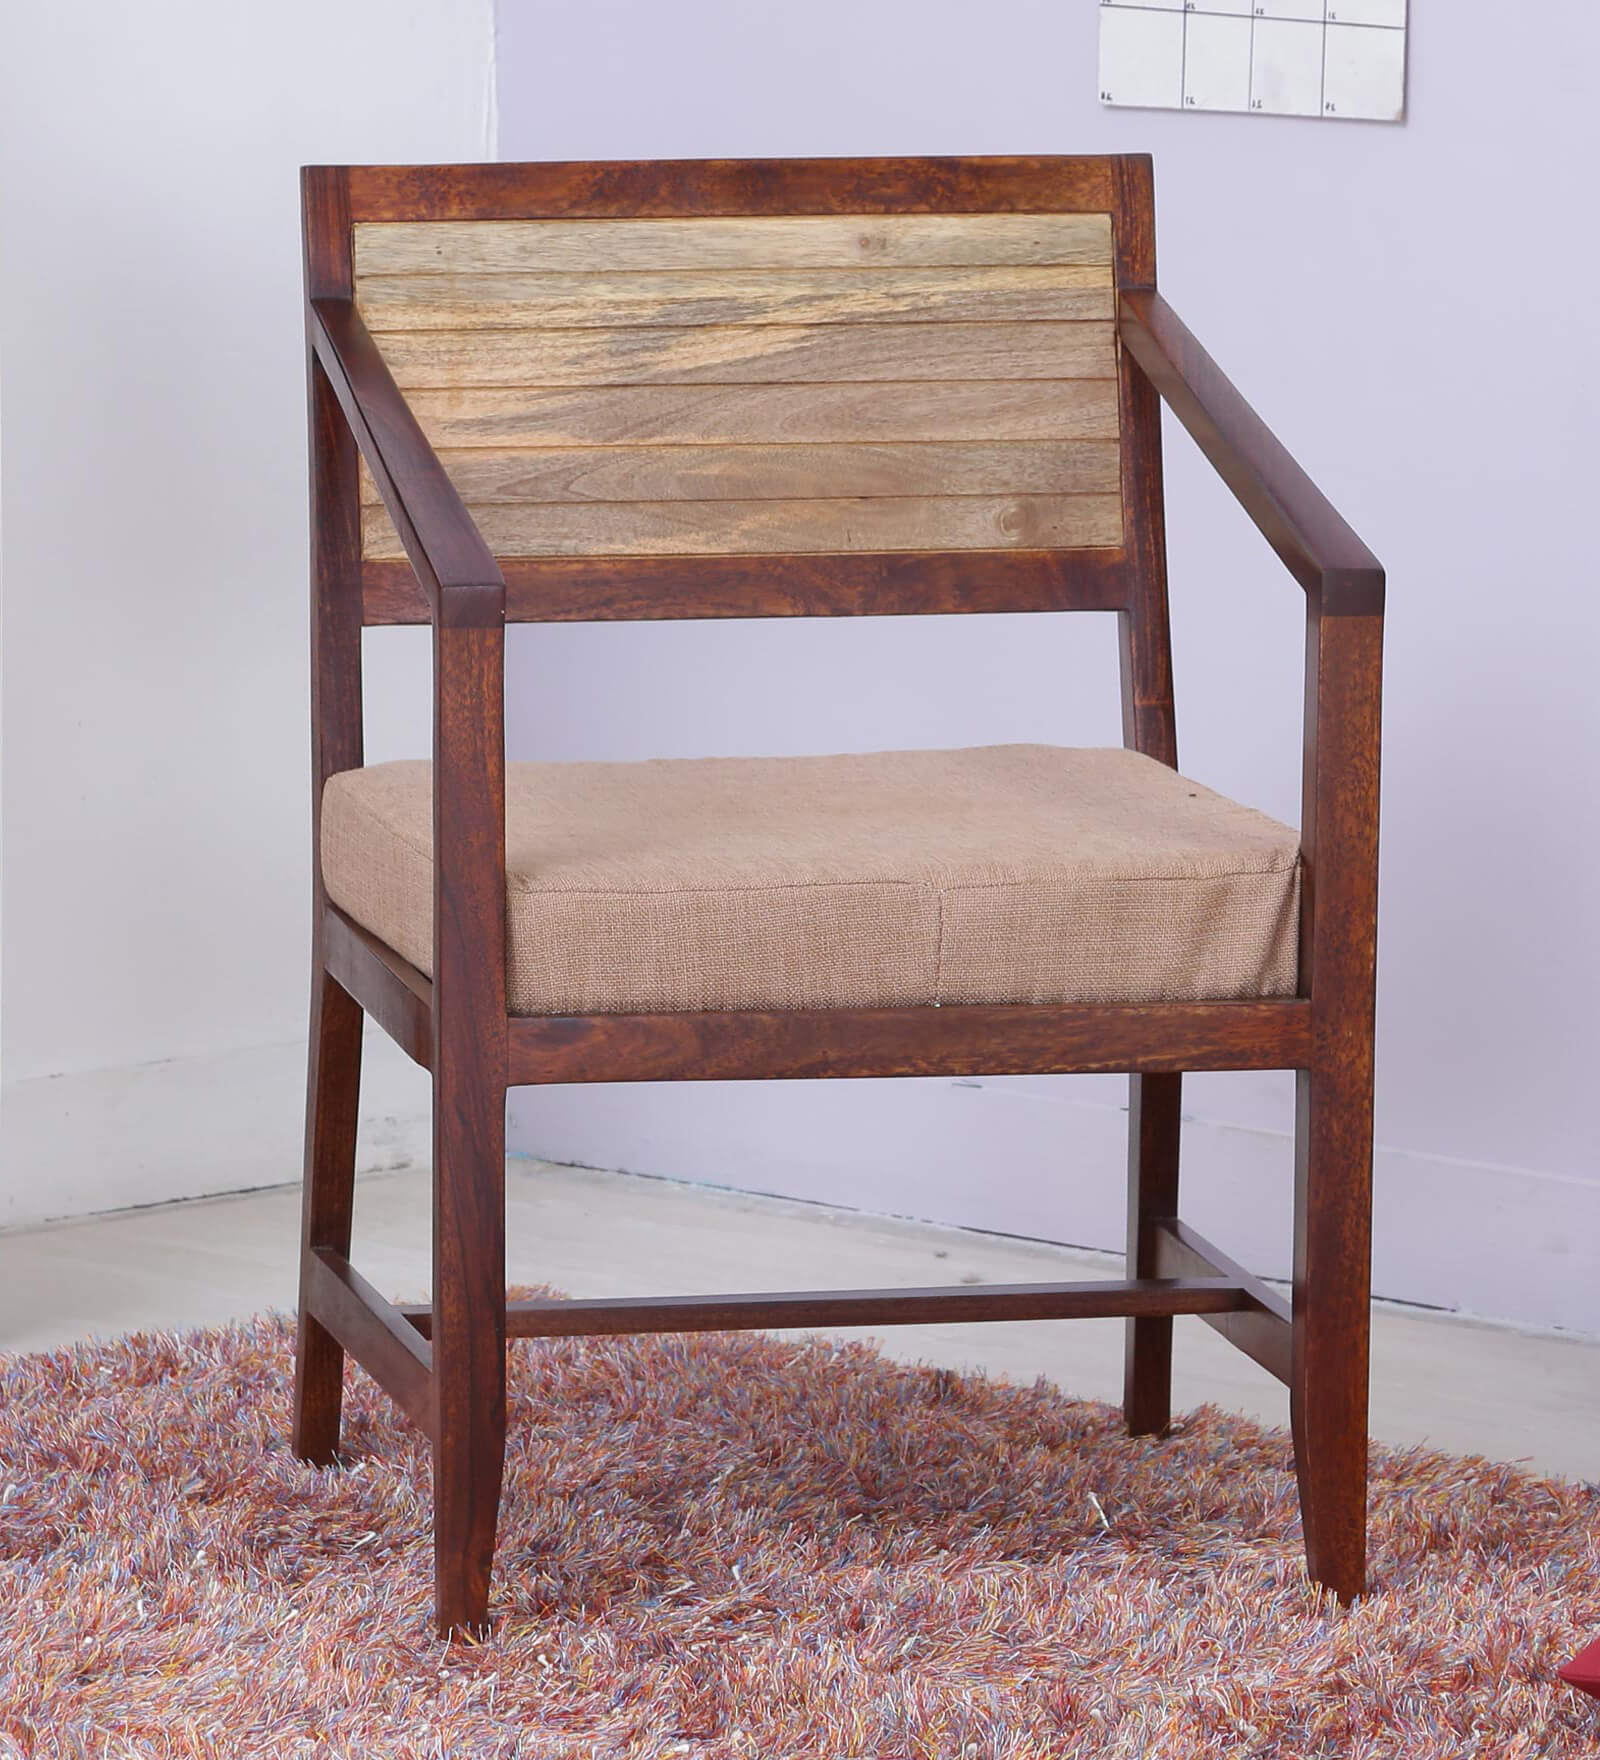Anitz Arm Chair in Dual Tone Finish by Woodsworth: (244, 130, 1398, 1677)
